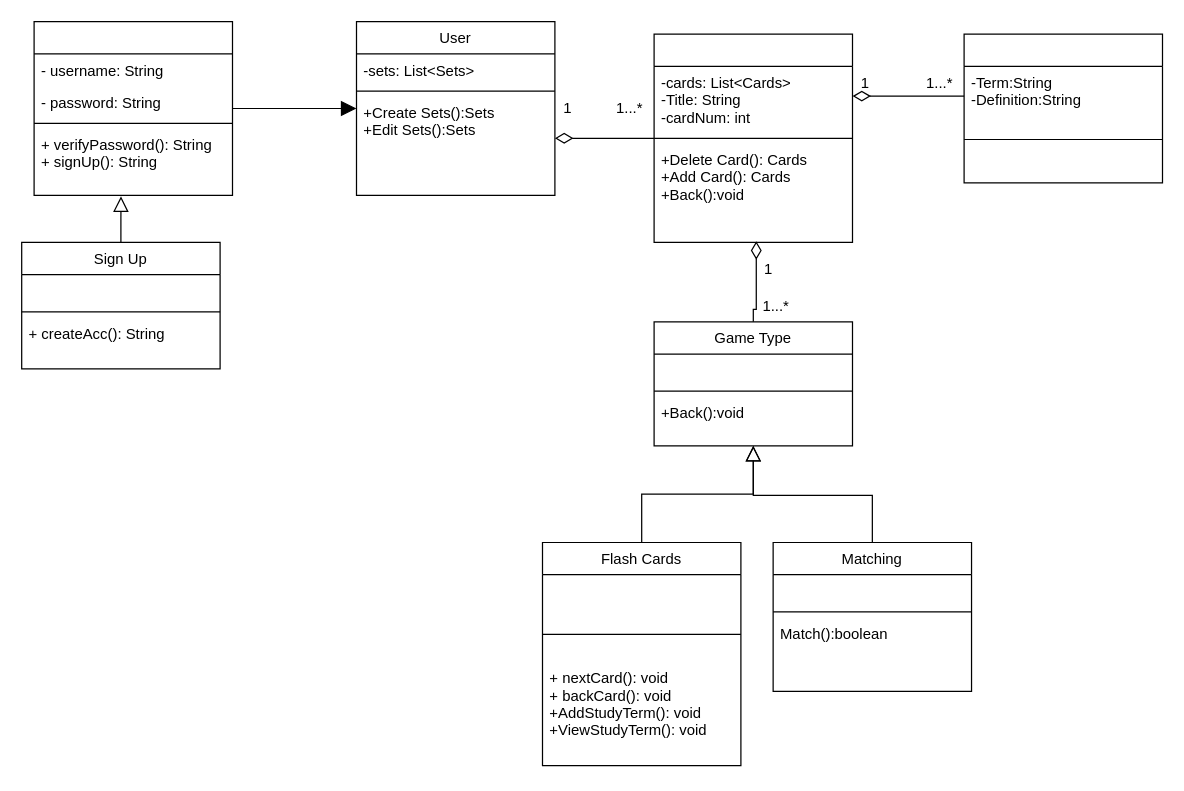
Image size: 1184x791. Some labels were removed from this diagram. Each missing label, with the box of its shape:
Cards: (963, 33, 1162, 183)
Login: (33, 20, 232, 195)
Sets: (653, 33, 852, 242)
